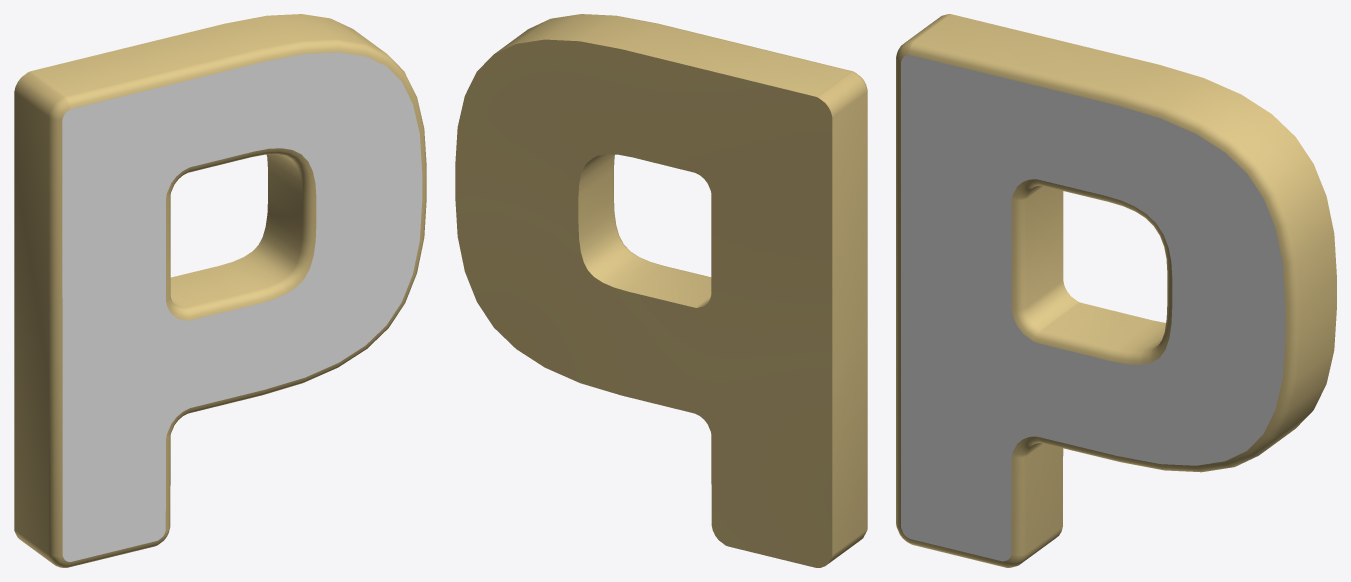
Rendered from LettersLightUp02_P.FBX.
3 views of the same model, side by side, from view 1: azimuth 30°, elevation 25°; view 2: azimuth 150°, elevation 25°; view 3: azimuth 330°, elevation 25° (orthographic). The views are drawn at different scales.
Visible parts, largest first — view 1: LettersLightUp02_P; view 2: LettersLightUp02_P; view 3: LettersLightUp02_P.
Boxes of the visible parts, x1,y1,x2,y2 form: LettersLightUp02_P: [14, 14, 426, 567]; LettersLightUp02_P: [455, 14, 867, 567]; LettersLightUp02_P: [896, 14, 1336, 567].
Size of what is drawn, in the model's own units: 0.5023 by 0.5998 by 0.0912.
